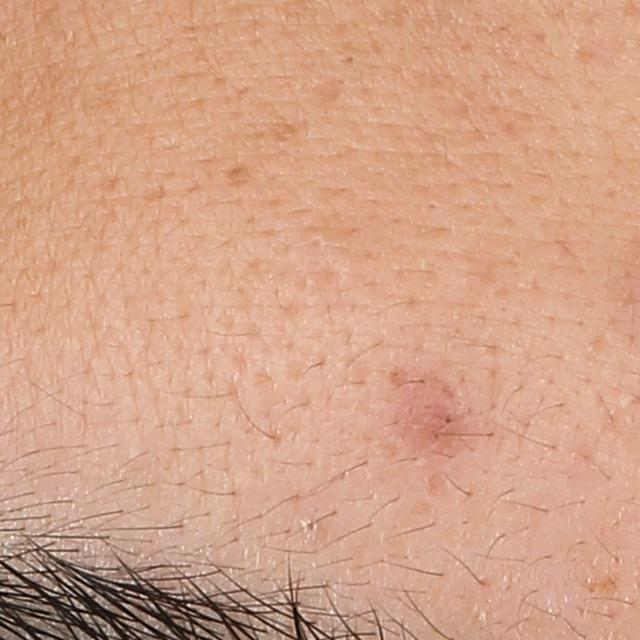atrophic_scar: (220, 161, 253, 190)
comedo: (338, 48, 359, 72), (309, 234, 327, 253)
